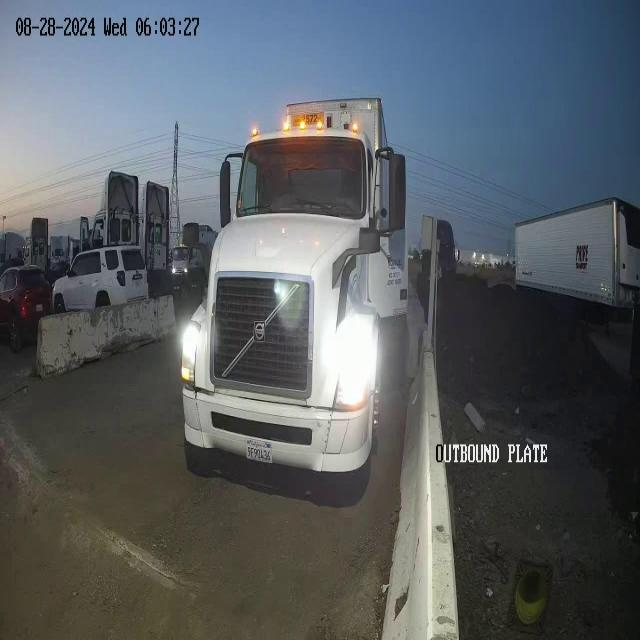TRUCK_CONTAINER: (180, 96, 408, 478)
